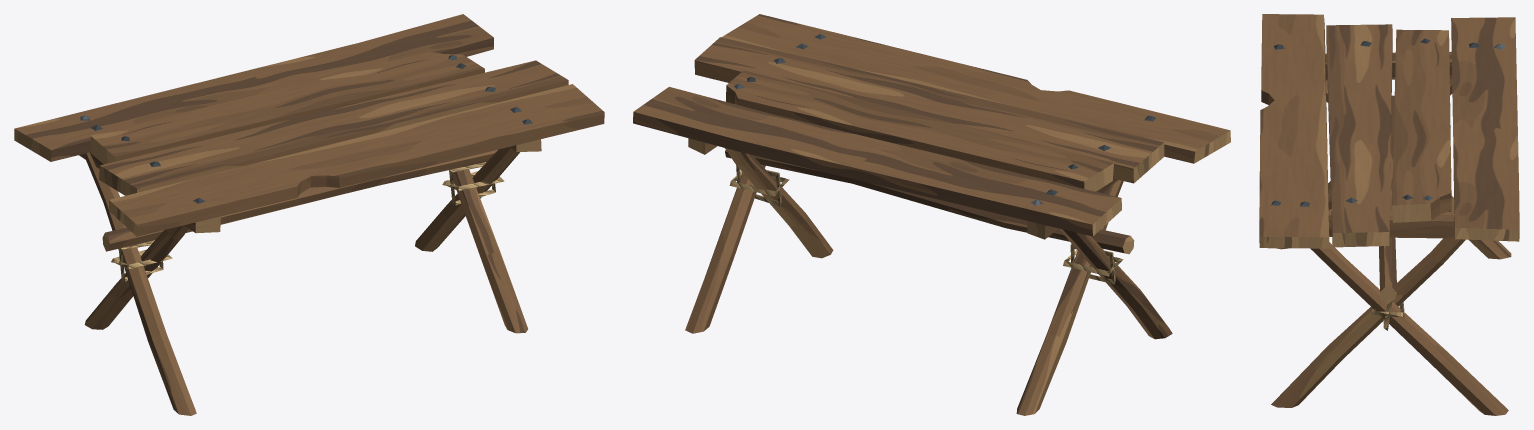
File: SM_RoughCampTable.fbx
The picture shows the model from 3 angles, left to right: view 1: azimuth 30°, elevation 25°; view 2: azimuth 150°, elevation 25°; view 3: azimuth 270°, elevation 25°; orthographic projection. The views are drawn at different scales.
Visible parts, largest first — view 1: SM_RoughCampTable; view 2: SM_RoughCampTable; view 3: SM_RoughCampTable.
Boxes of the visible parts, bbox=[...] form: SM_RoughCampTable: bbox=[14, 14, 604, 415]; SM_RoughCampTable: bbox=[633, 14, 1230, 415]; SM_RoughCampTable: bbox=[1259, 14, 1519, 415].
Size of the model in its own units: 1.85 by 0.8168 by 0.9052.
